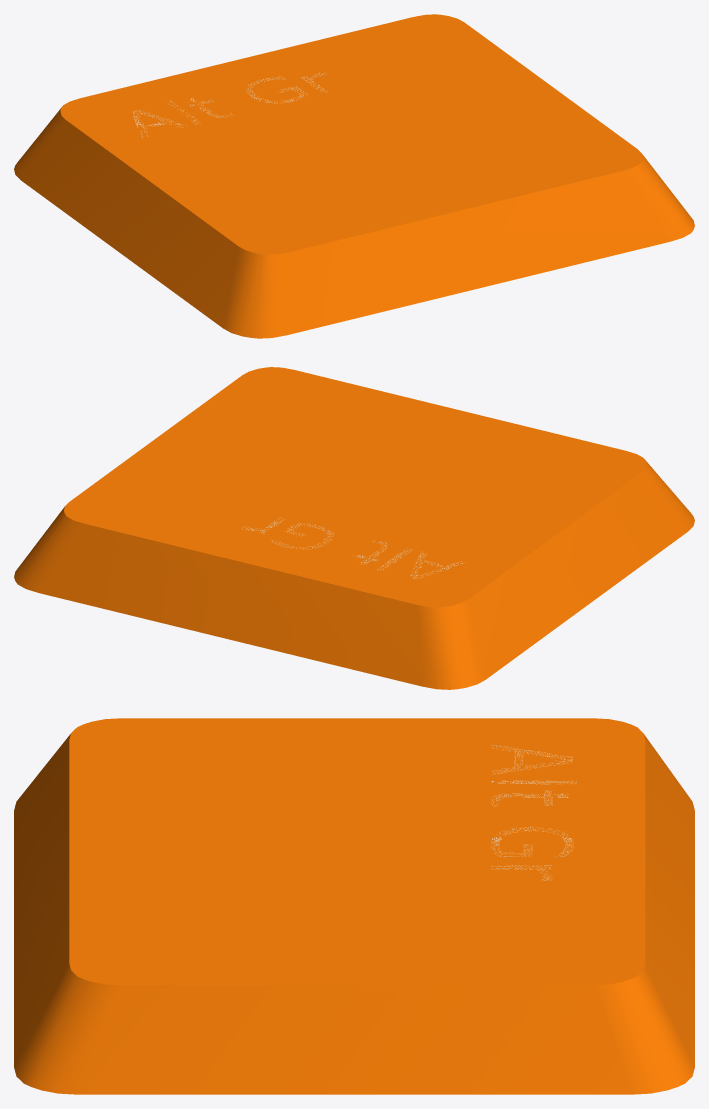
Rendered from original-13.obj.
3 views of the same model, one above another, from view 1: azimuth 30°, elevation 25°; view 2: azimuth 150°, elevation 25°; view 3: azimuth 270°, elevation 25° (orthographic). The views are drawn at different scales.
Visible parts, largest first — view 1: mesh10/mesh10-geometry#mesh10-geometry; view 2: mesh10/mesh10-geometry#mesh10-geometry; view 3: mesh10/mesh10-geometry#mesh10-geometry.
Part boxes in pixels (x1,y1,x2,y2): mesh10/mesh10-geometry#mesh10-geometry: (14, 14, 694, 338); mesh10/mesh10-geometry#mesh10-geometry: (14, 367, 694, 689); mesh10/mesh10-geometry#mesh10-geometry: (14, 718, 694, 1094).
Size of the model in its own units: 0.0933 by 0.0186 by 0.0863.
